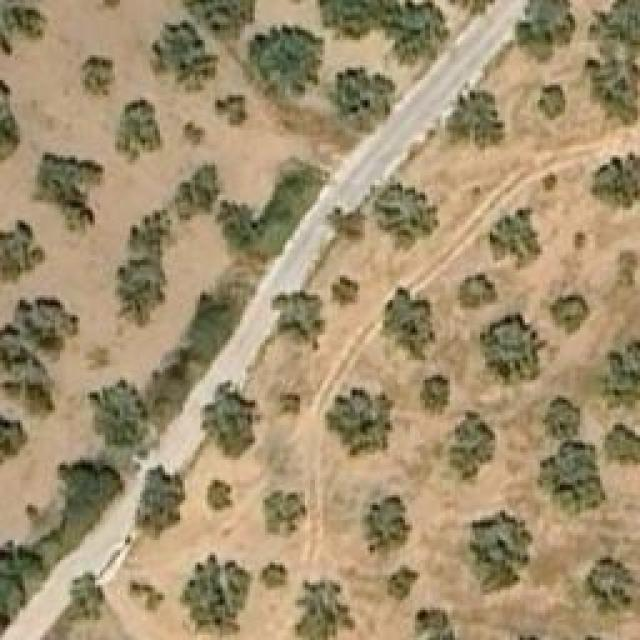Tree: (0, 295, 80, 418), (317, 0, 450, 62), (30, 153, 105, 236), (180, 555, 253, 640), (250, 20, 323, 95), (323, 388, 396, 461), (470, 510, 533, 588), (535, 440, 605, 510), (372, 180, 440, 250), (330, 68, 400, 136), (153, 23, 218, 93), (480, 313, 540, 388), (203, 382, 256, 460), (55, 453, 118, 516), (295, 575, 355, 640), (583, 58, 638, 128), (385, 288, 435, 361), (137, 465, 185, 538), (118, 255, 168, 325), (447, 90, 505, 150), (88, 383, 143, 443), (115, 97, 163, 165), (363, 495, 413, 560), (450, 410, 495, 480), (490, 208, 540, 271), (587, 557, 640, 614), (590, 153, 640, 213), (0, 0, 45, 65), (0, 220, 45, 283), (273, 290, 326, 343), (595, 0, 640, 60), (517, 0, 575, 45), (182, 0, 255, 32), (178, 165, 223, 213), (218, 198, 261, 248), (263, 490, 306, 535), (77, 55, 115, 103), (65, 575, 105, 620), (542, 395, 580, 440), (607, 347, 640, 397), (550, 295, 590, 335), (0, 413, 28, 468), (605, 423, 640, 466), (325, 208, 365, 243), (458, 275, 498, 308), (388, 565, 421, 600), (125, 575, 160, 608), (538, 85, 568, 120), (215, 95, 248, 125), (205, 478, 233, 513), (420, 375, 448, 408), (258, 562, 288, 590), (450, 0, 500, 15), (278, 390, 308, 415), (418, 608, 448, 633), (180, 120, 205, 148), (333, 278, 358, 303)
